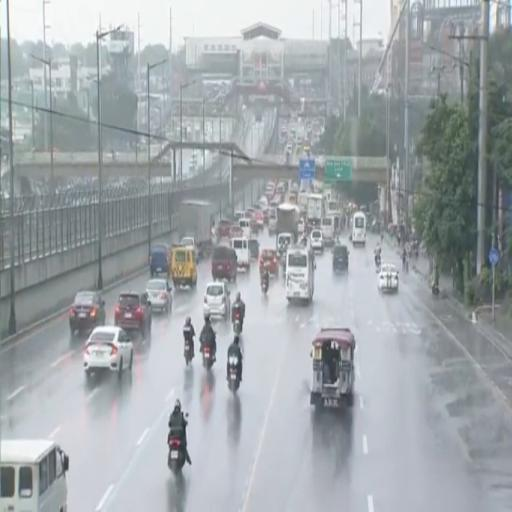bus: (0, 440, 68, 511), (285, 247, 315, 302), (352, 212, 366, 246)
car: (84, 326, 133, 377), (115, 292, 151, 335), (69, 292, 105, 335), (204, 282, 230, 318), (146, 279, 172, 313), (378, 263, 398, 292), (260, 249, 279, 276), (310, 229, 324, 252), (298, 218, 305, 234)
motorcycle: (168, 432, 185, 475), (168, 437, 185, 475), (228, 356, 239, 392), (203, 346, 214, 370), (184, 341, 193, 365), (233, 310, 241, 334), (260, 278, 269, 294), (375, 255, 381, 273), (432, 284, 439, 298)
truck: (179, 200, 214, 260), (276, 203, 299, 243), (306, 194, 323, 228)
